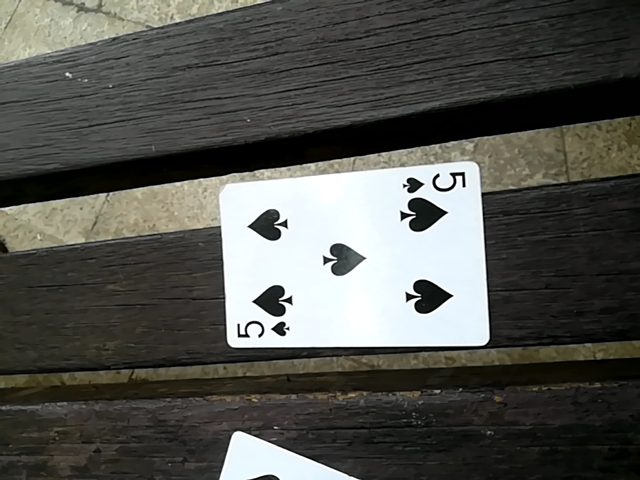ht 5: (213, 158, 484, 352)
